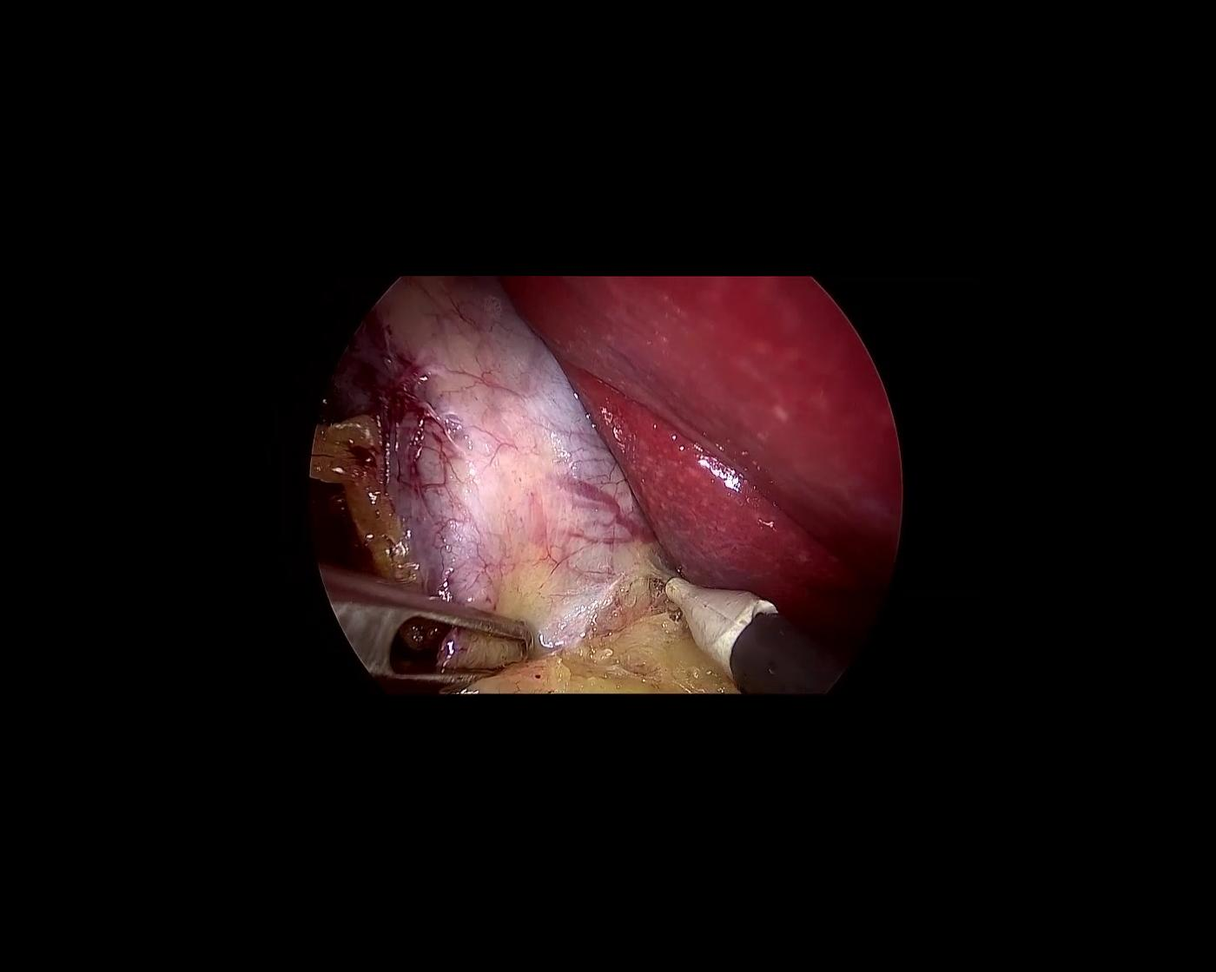Cautery: (611, 553, 867, 727)
Forceps: (291, 562, 543, 719)
Gallbladder: (289, 224, 687, 701)
Liver: (485, 135, 996, 704)
